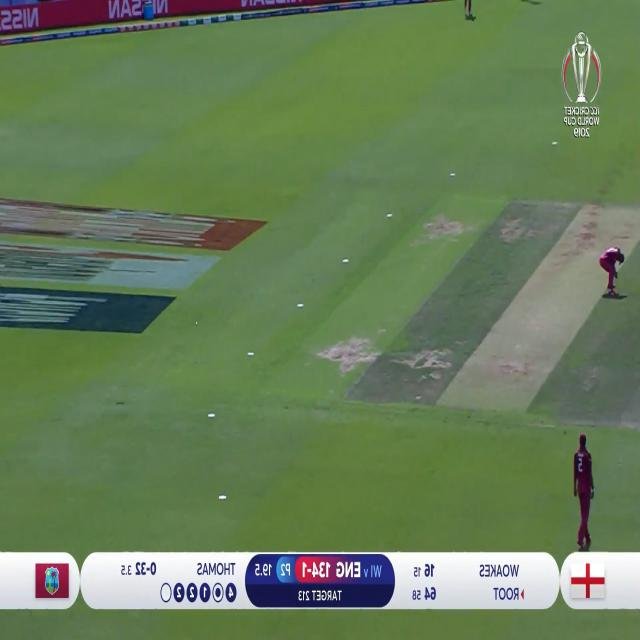ball: (189, 316, 200, 331)
